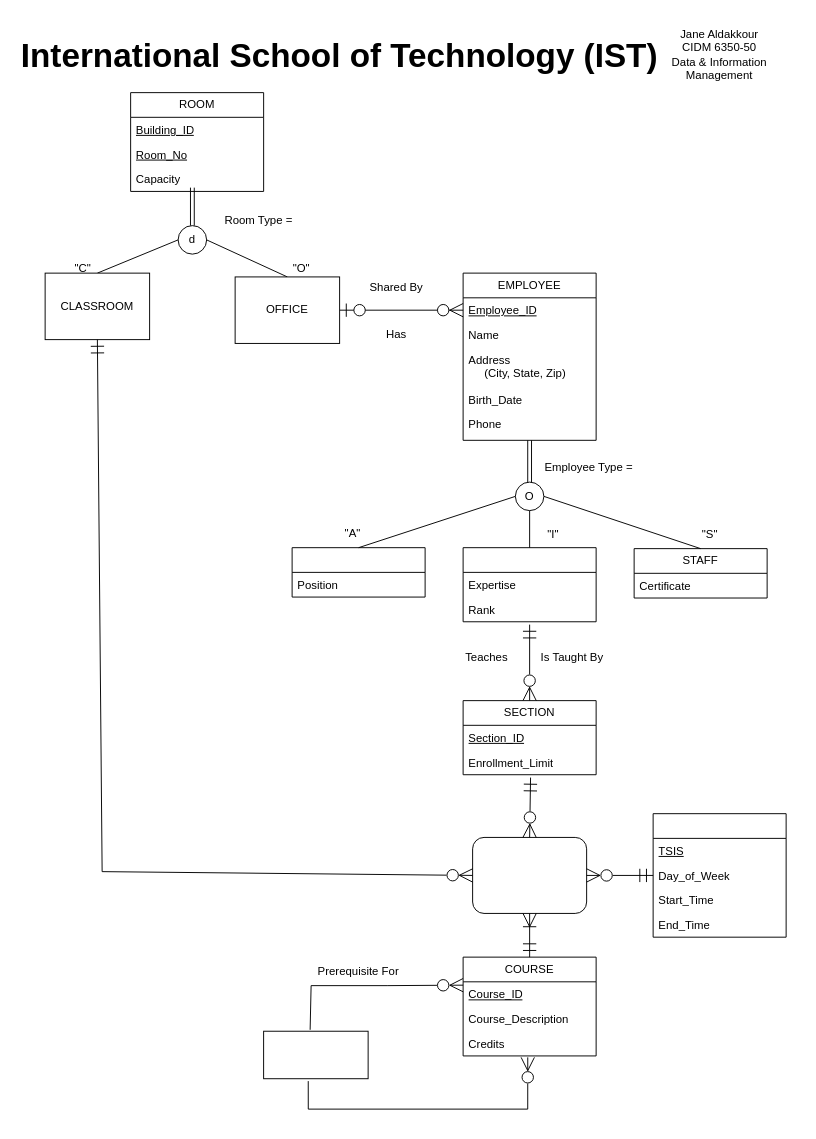
Some shapes in this 816 by 1139 pixel diagram are drawn without their labels. Here are the shapes that lost their labels. From the top down, the box of each, then its label:
(291, 547, 425, 597): ADMINISTRATOR
(462, 547, 596, 622): INSTRUCTOR
(472, 836, 587, 913): SCHEDULE Semester Year
(652, 813, 786, 937): TIMESLOT
(263, 1030, 368, 1079): PREREQUISITES
